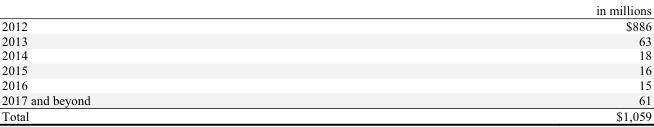table: (0, 1, 651, 123)
table column: (0, 1, 342, 123), (342, 1, 651, 123)
table column header: (0, 1, 651, 17)
table row: (0, 1, 651, 17), (0, 107, 651, 123), (0, 17, 651, 32), (0, 32, 651, 47), (0, 47, 651, 62), (0, 62, 651, 77), (0, 77, 651, 92), (0, 92, 651, 107)
